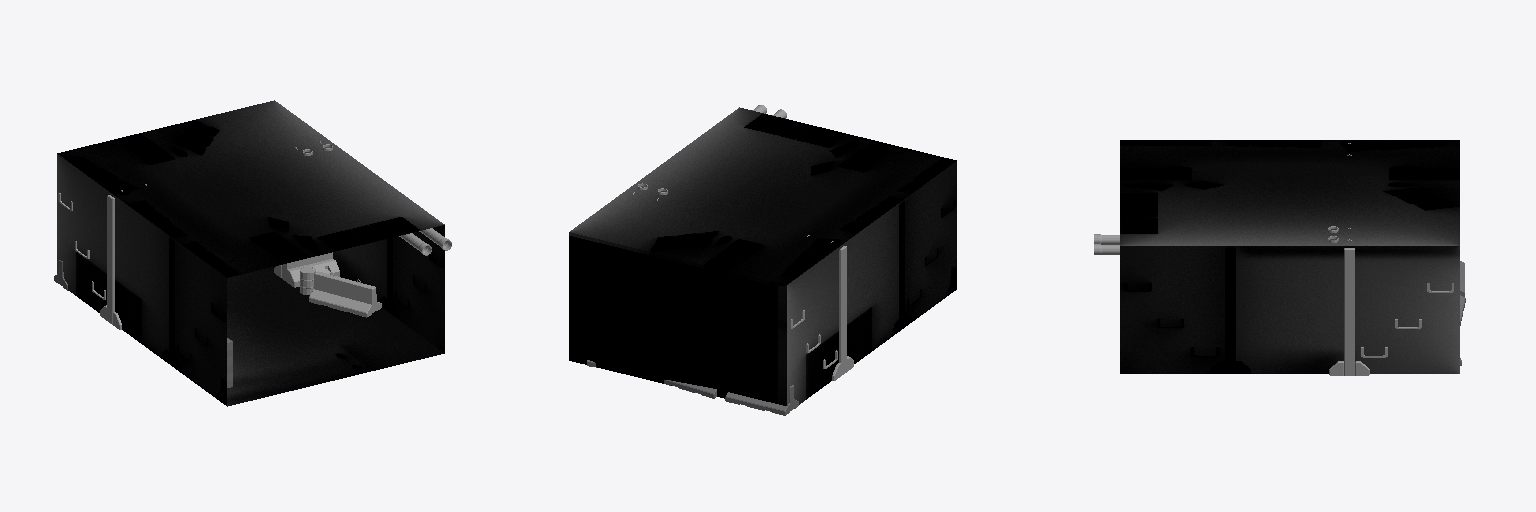
3 renders of one model, left to right at view 1: azimuth 30°, elevation 25°; view 2: azimuth 150°, elevation 25°; view 3: azimuth 270°, elevation 25°, orthographic.
Parts seen in each view (by area): view 1: Plane, barrier.003_Untitled.015, wall_Untitled.004, wall.001_Untitled.005; view 2: Plane, wall_Untitled.004, barrier_Untitled.012; view 3: Plane, wall.001_Untitled.005.
Boxes of the visible parts, <box> form: Plane: <box>57,100,444,406</box>; barrier.003_Untitled.015: <box>309,271,381,317</box>; wall_Untitled.004: <box>100,184,146,329</box>; wall.001_Untitled.005: <box>274,141,339,287</box>; Plane: <box>569,107,956,405</box>; wall_Untitled.004: <box>807,235,853,380</box>; barrier_Untitled.012: <box>725,385,798,415</box>; Plane: <box>1120,140,1459,373</box>; wall.001_Untitled.005: <box>1329,228,1369,375</box>.
Size of the model in its own units: 11.7 by 6.61 by 16.89.
9 materials, 1 textured.